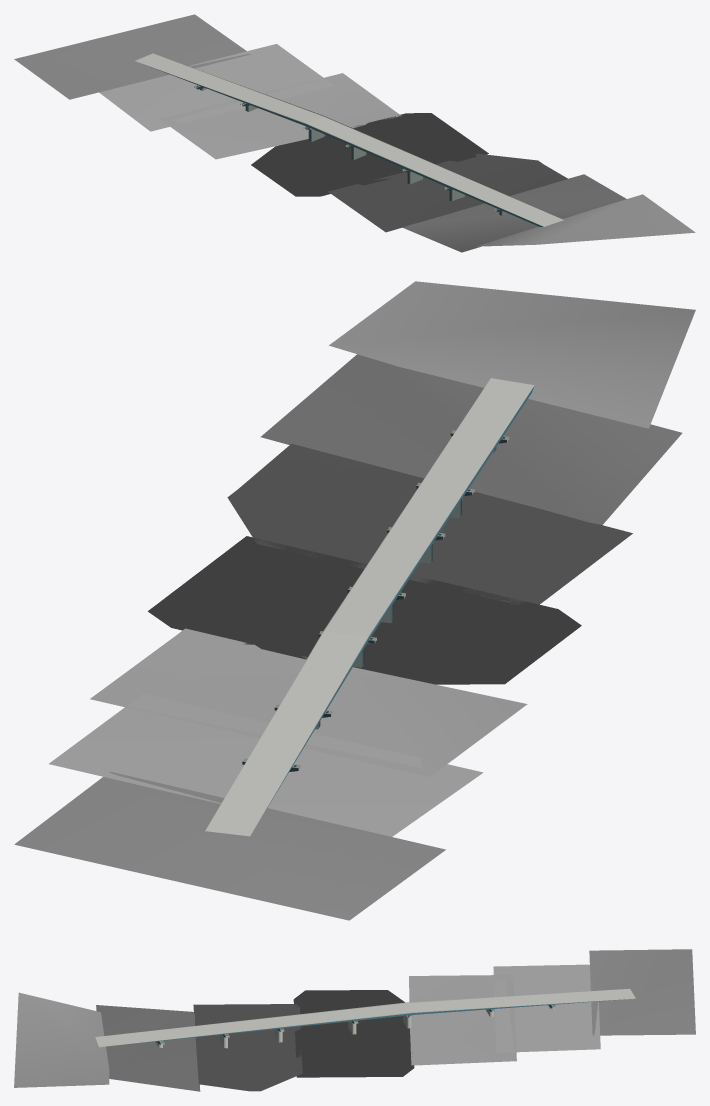
Rendered from the-olgiati-bridge.glb.
The picture shows the model from 3 angles, top to bottom: view 1: azimuth 30°, elevation 25°; view 2: azimuth 150°, elevation 25°; view 3: azimuth 270°, elevation 25°; orthographic projection. The views are drawn at different scales.
Visible parts, largest first — view 1: Geom3D; view 2: Geom3D; view 3: Geom3D.
Boxes of the visible parts, x1,y1,x2,y2 form: Geom3D: [14, 14, 695, 252]; Geom3D: [14, 281, 695, 920]; Geom3D: [14, 949, 695, 1091].
Size of what is drawn, in the model's own units: 529 by 64.57 by 1025.
1 material, 1 textured.
